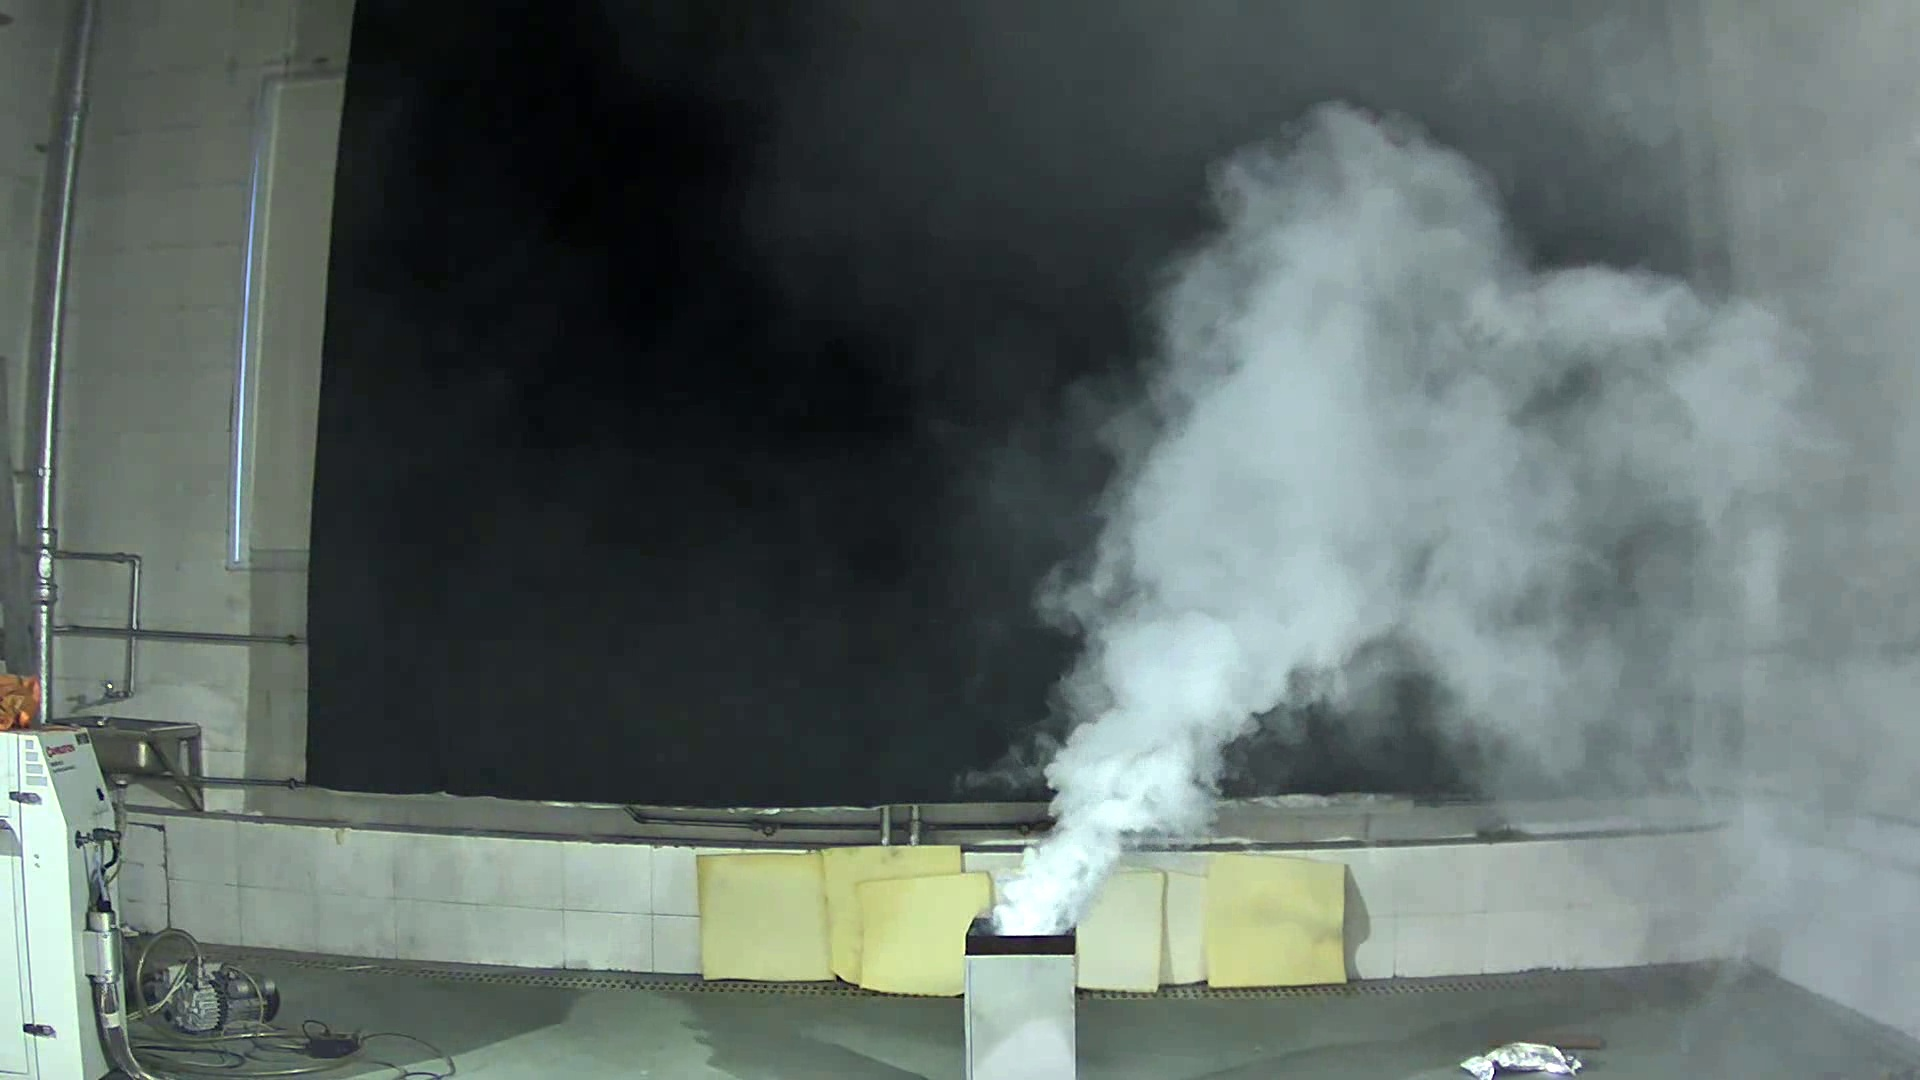smoke: (948, 107, 1829, 938)
